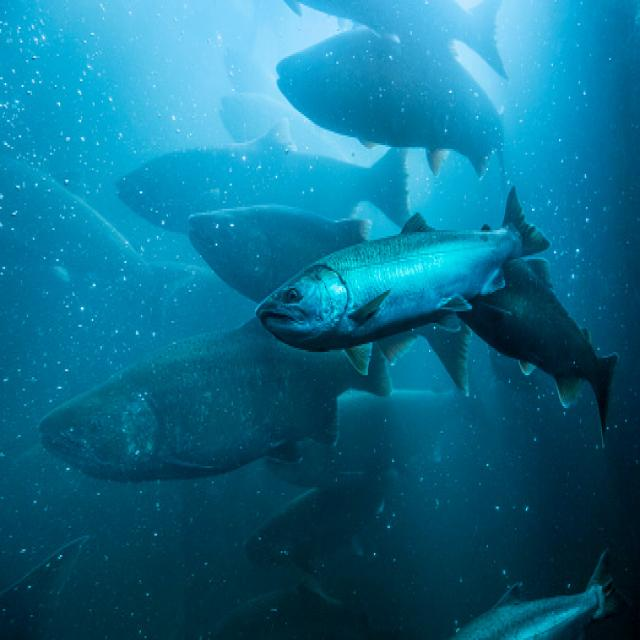salmon: (265, 183, 561, 416)
